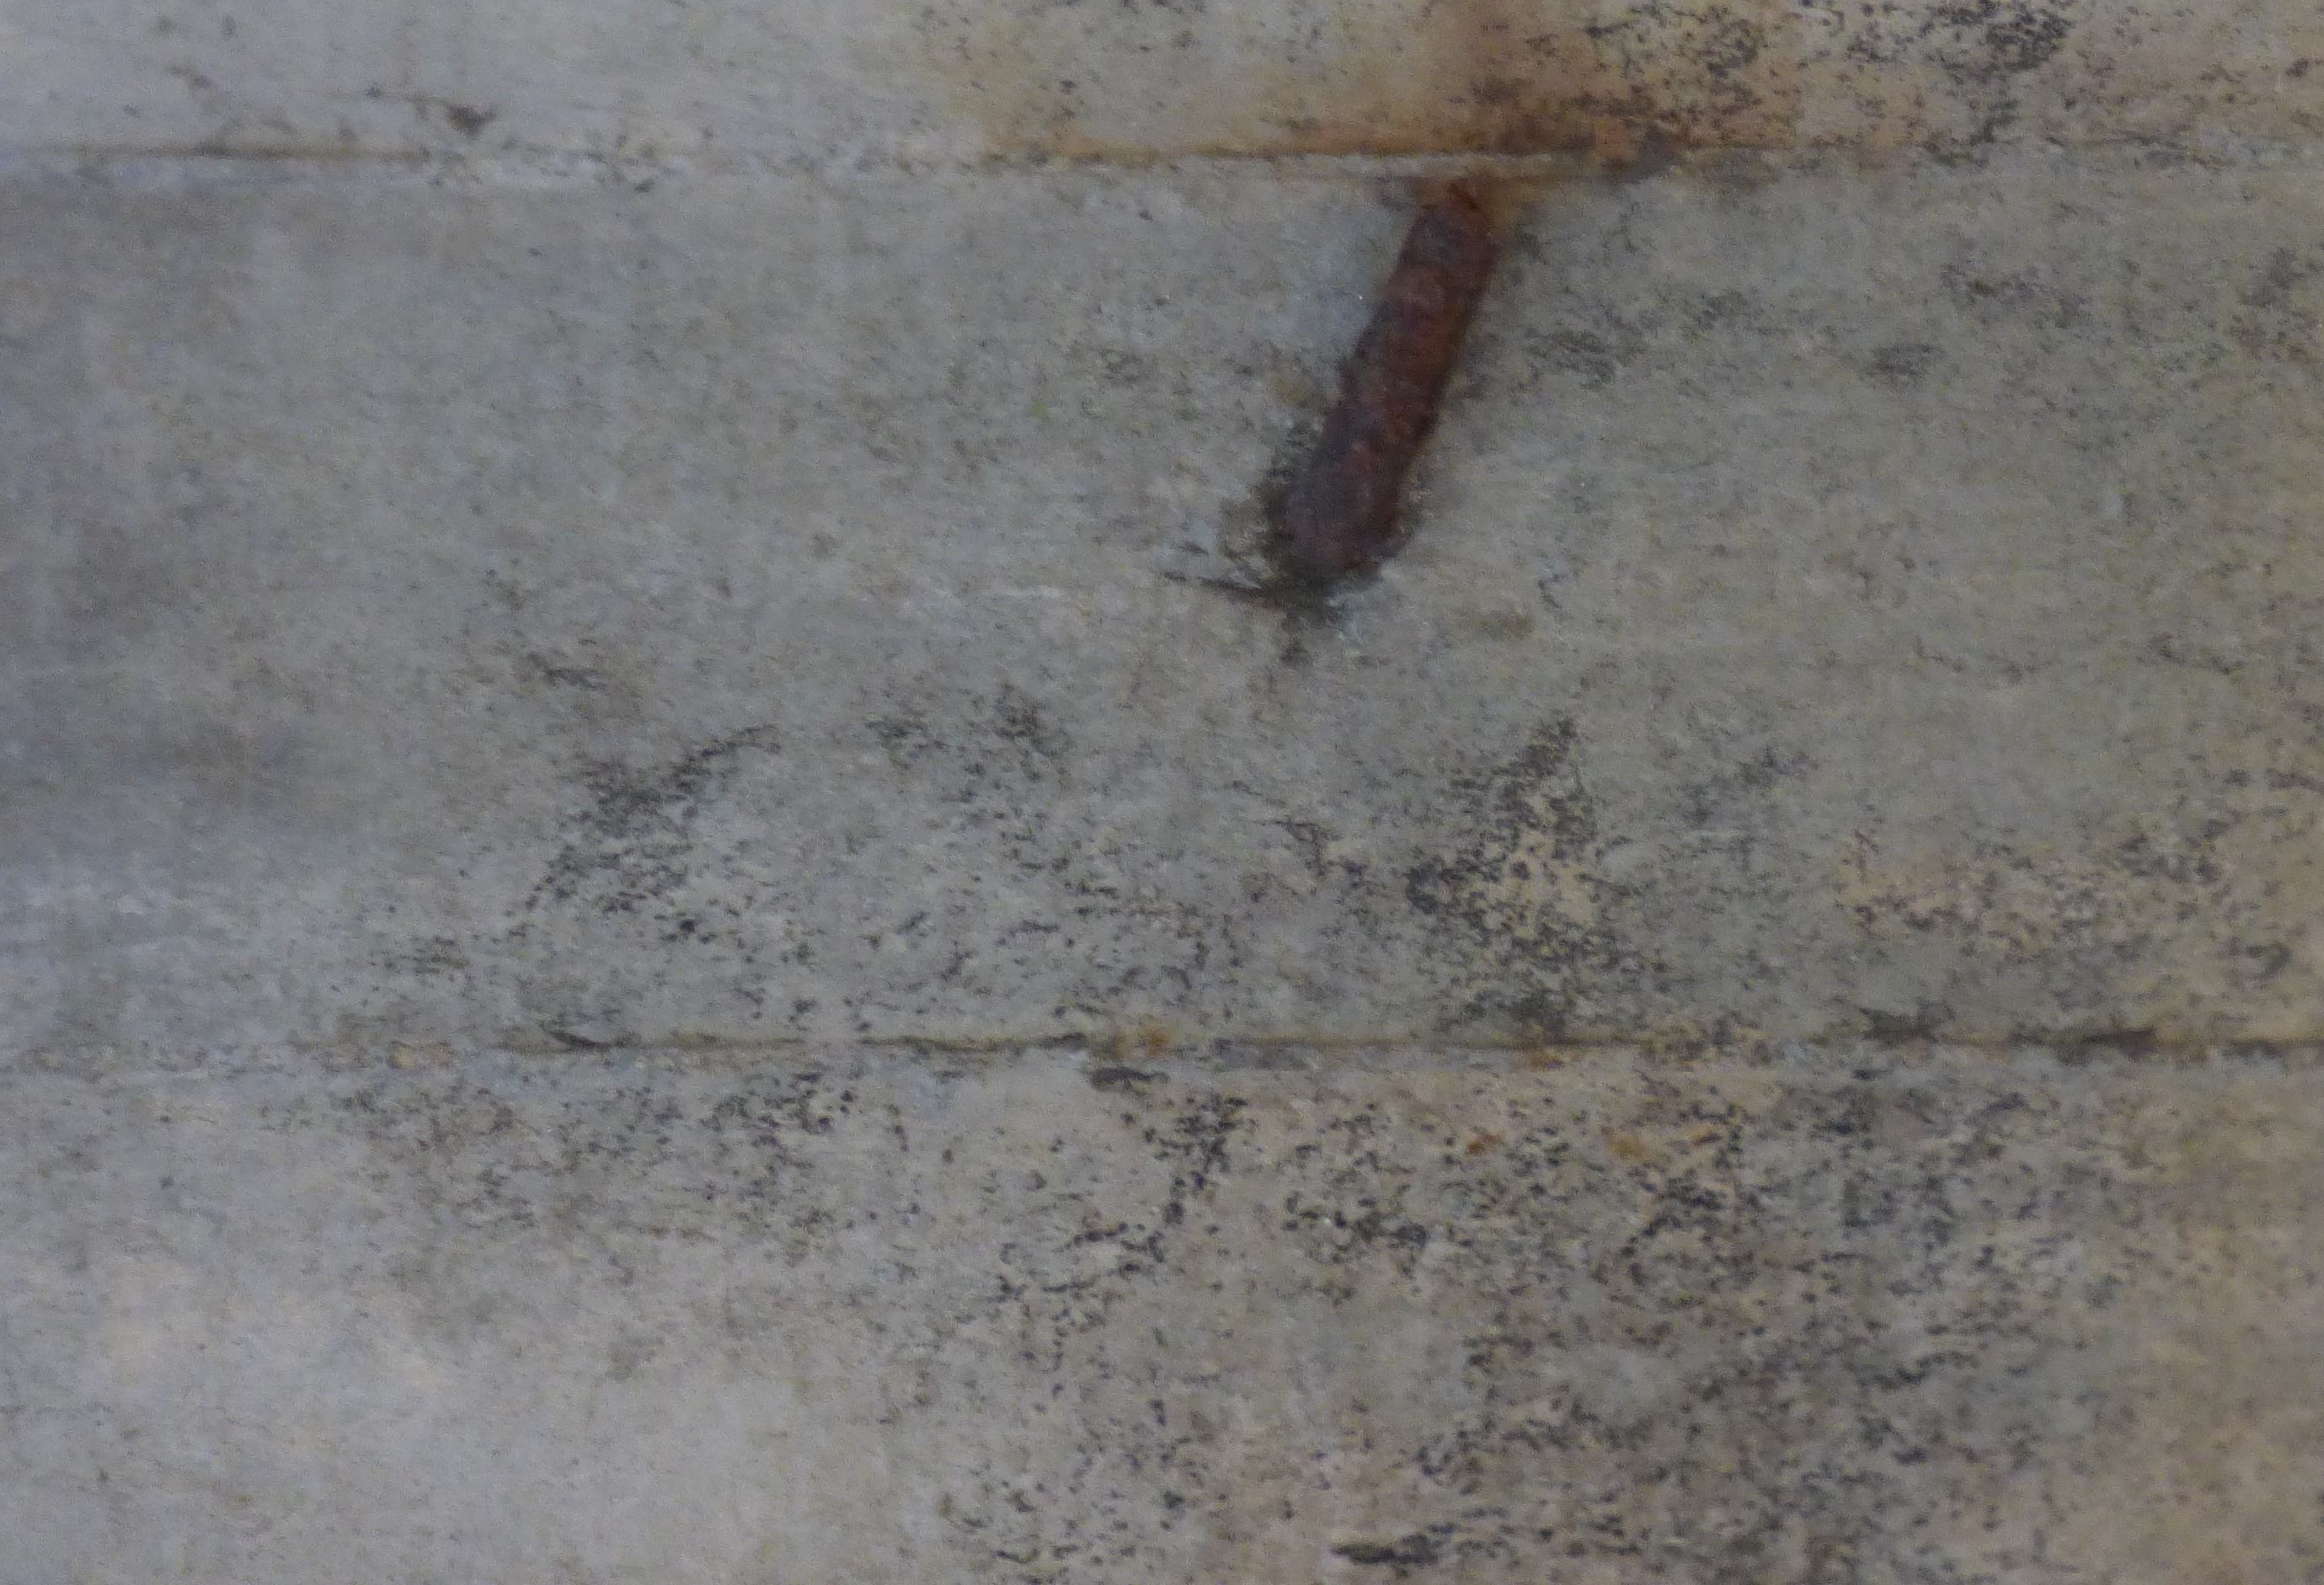Exposed reinforcement: (1303, 198, 1494, 565)
